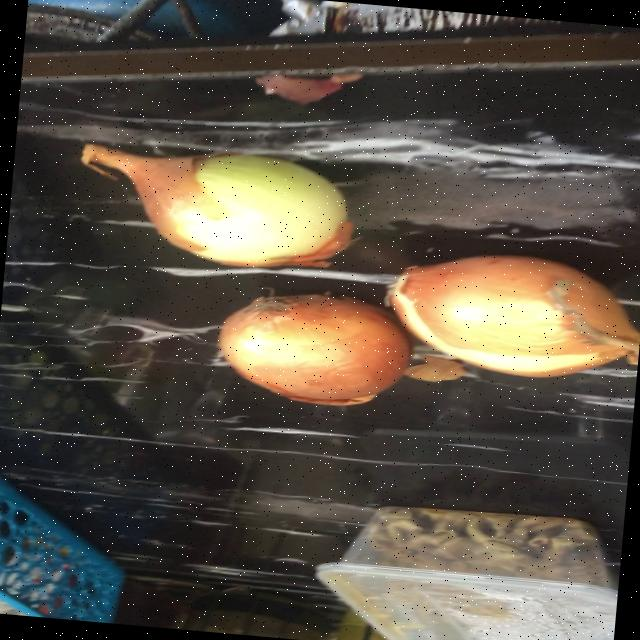Onion: (80, 142, 353, 265), (388, 254, 640, 376), (218, 293, 410, 404)
